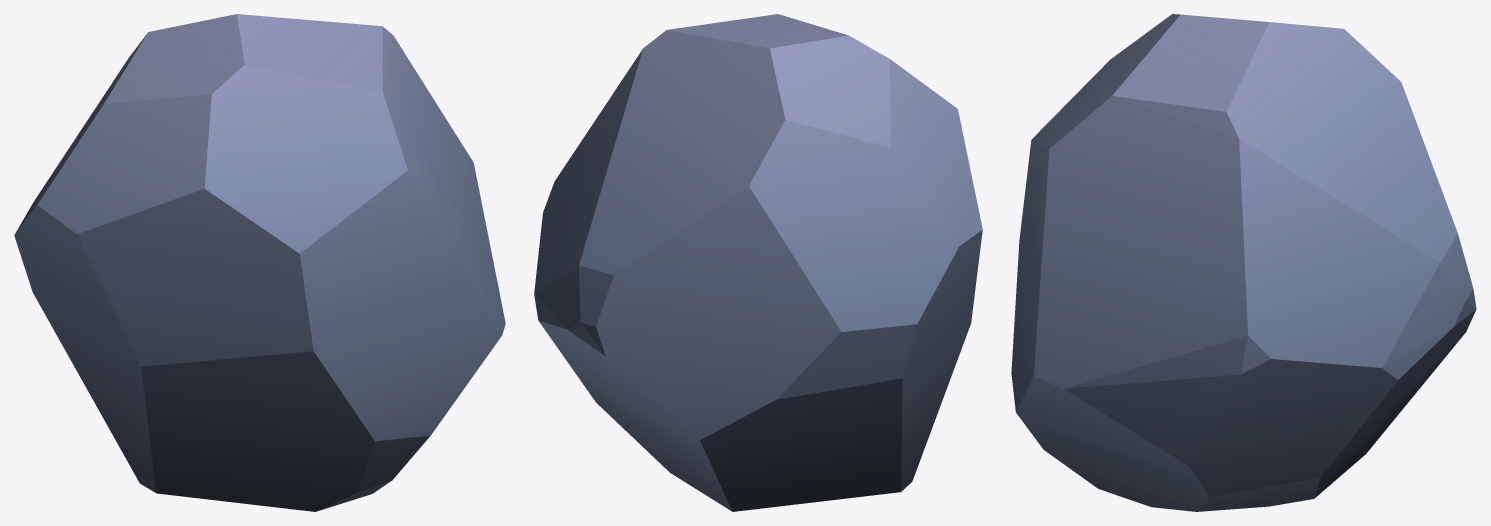
Rendered from Rock_4.fbx.
The picture shows the model from 3 angles, left to right: view 1: azimuth 30°, elevation 25°; view 2: azimuth 150°, elevation 25°; view 3: azimuth 270°, elevation 25°; orthographic projection. The views are drawn at different scales.
Parts seen in each view (by area): view 1: Rock 4; view 2: Rock 4; view 3: Rock 4.
Boxes of the visible parts, <box> form: Rock 4: <box>14,14,505,511</box>; Rock 4: <box>534,14,982,511</box>; Rock 4: <box>1011,14,1476,511</box>.
Size of the model in its own units: 186 by 180 by 173.
